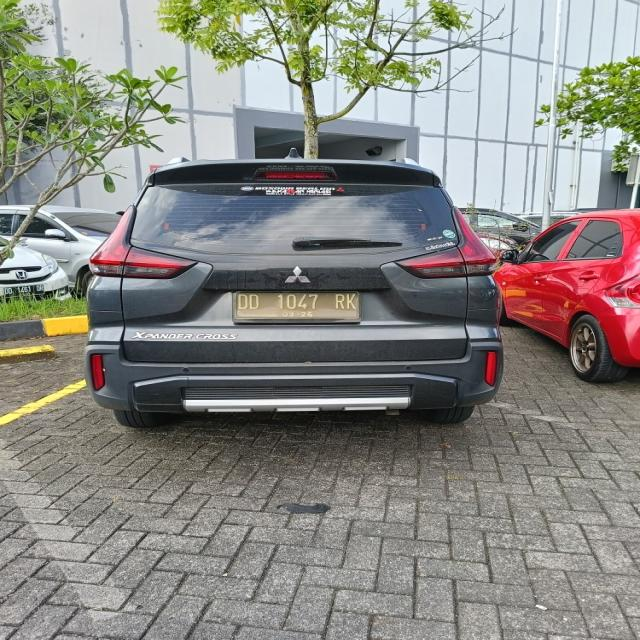plates: (232, 290, 358, 324)
